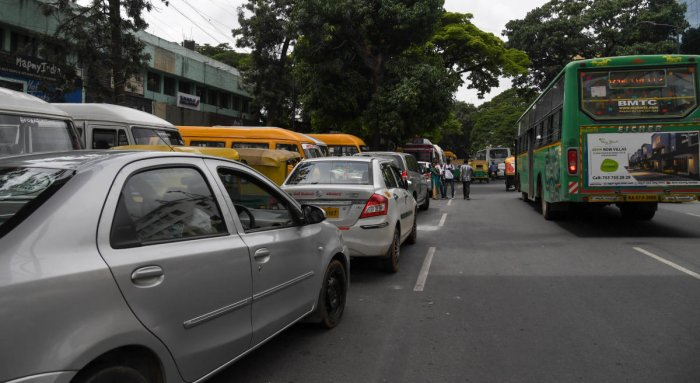bus: (514, 57, 700, 217)
car: (1, 153, 351, 381), (287, 156, 419, 272)
person: (459, 159, 474, 201), (443, 158, 455, 200)
